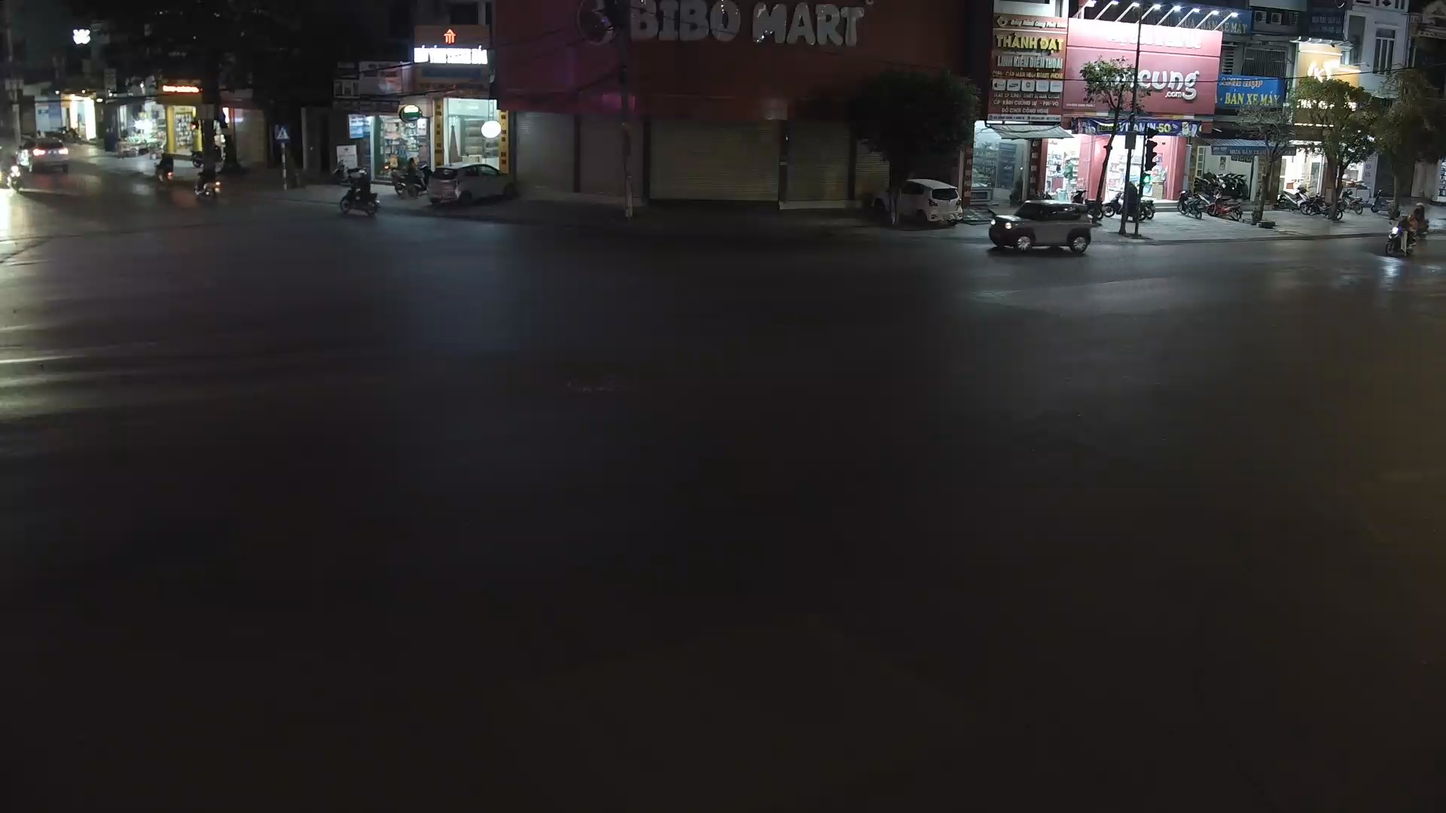car: (986, 198, 1094, 257), (886, 176, 966, 230)
